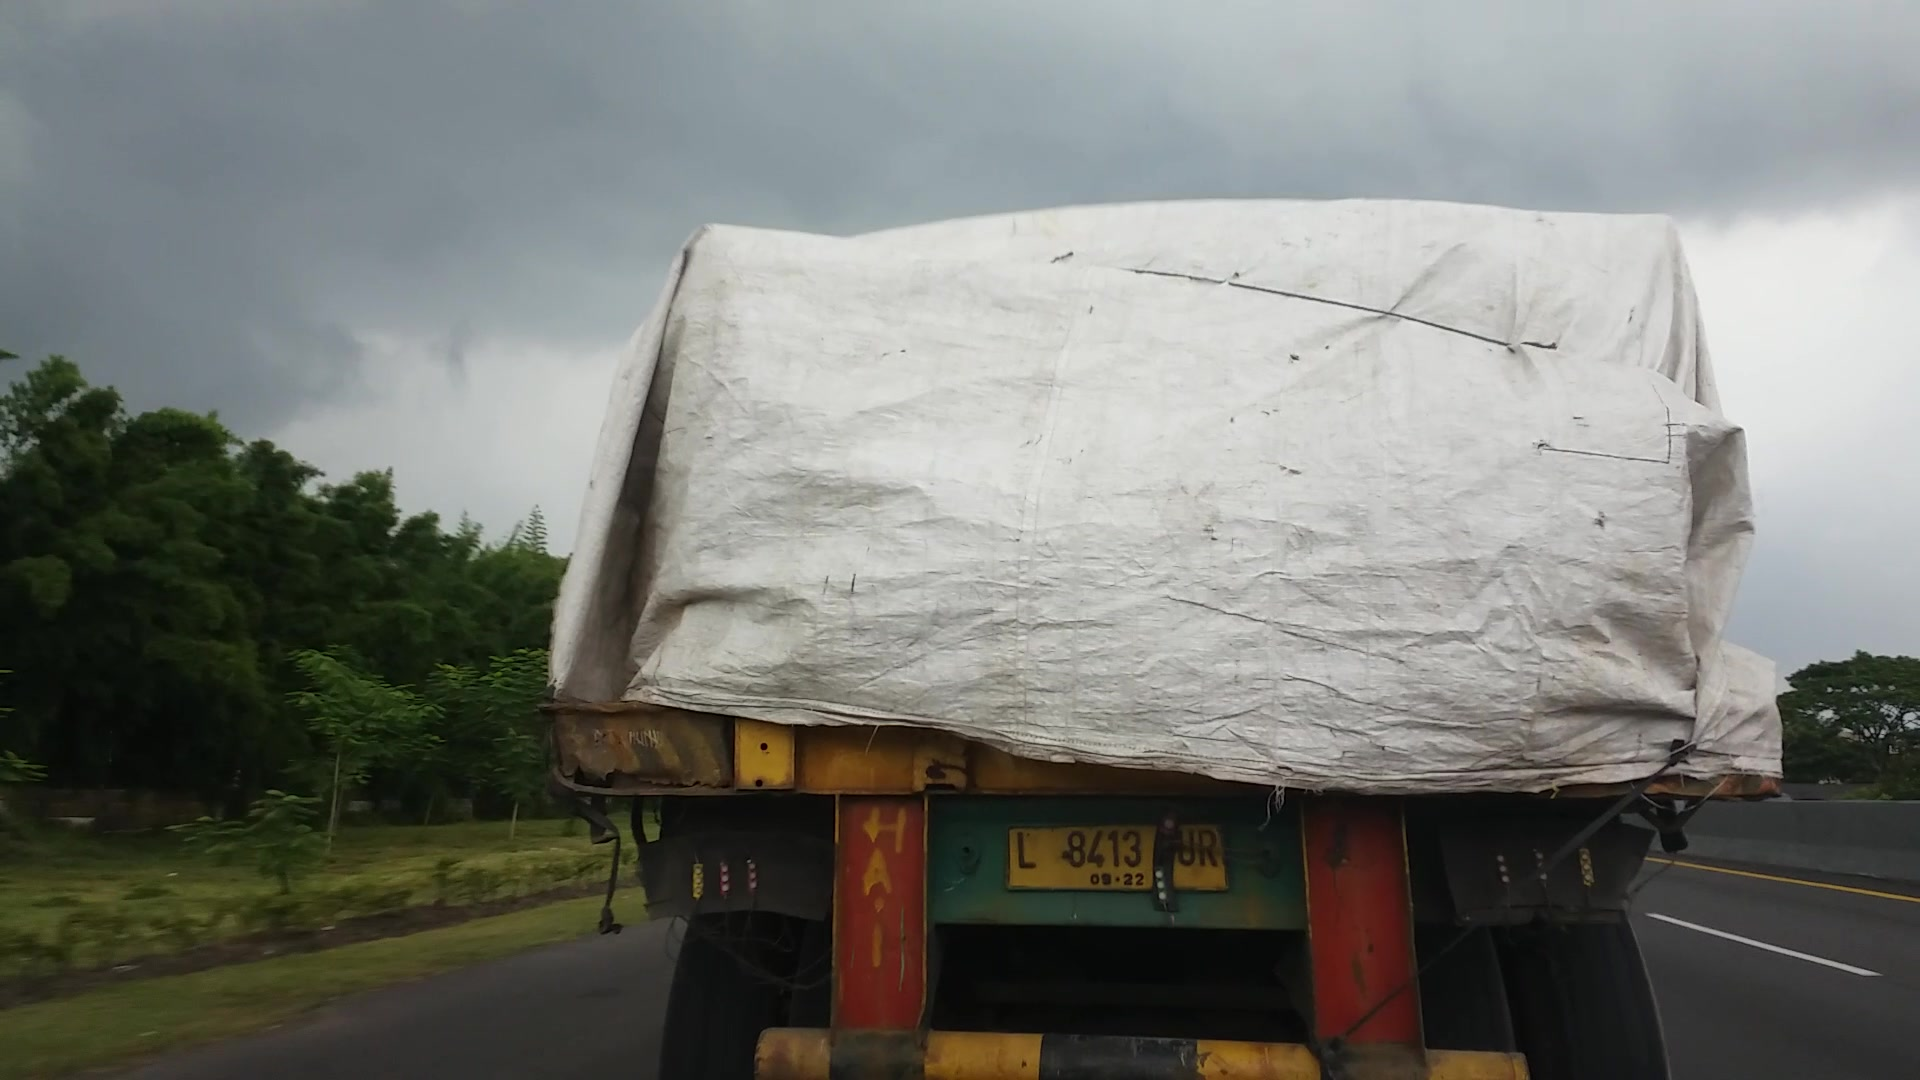plate_positive: (1007, 824, 1226, 891)
